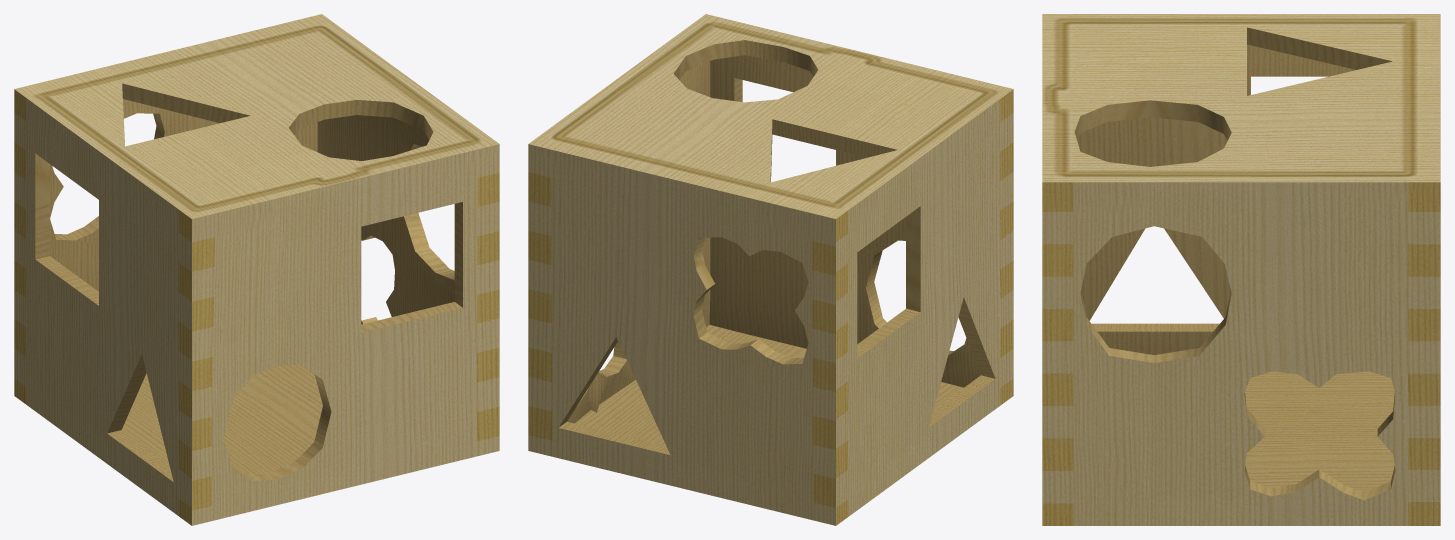
Rendered from tumiki.FBX.
3 renders of one model, left to right at view 1: azimuth 30°, elevation 25°; view 2: azimuth 150°, elevation 25°; view 3: azimuth 270°, elevation 25°, orthographic. The views are drawn at different scales.
Parts seen in each view (by area): view 1: Box001; view 2: Box001; view 3: Box001.
Part boxes in pixels (bbox=[...]): Box001: bbox=[14, 14, 499, 525]; Box001: bbox=[528, 14, 1013, 525]; Box001: bbox=[1042, 14, 1440, 525].
Size of the model in its own units: 106 by 101 by 106.
